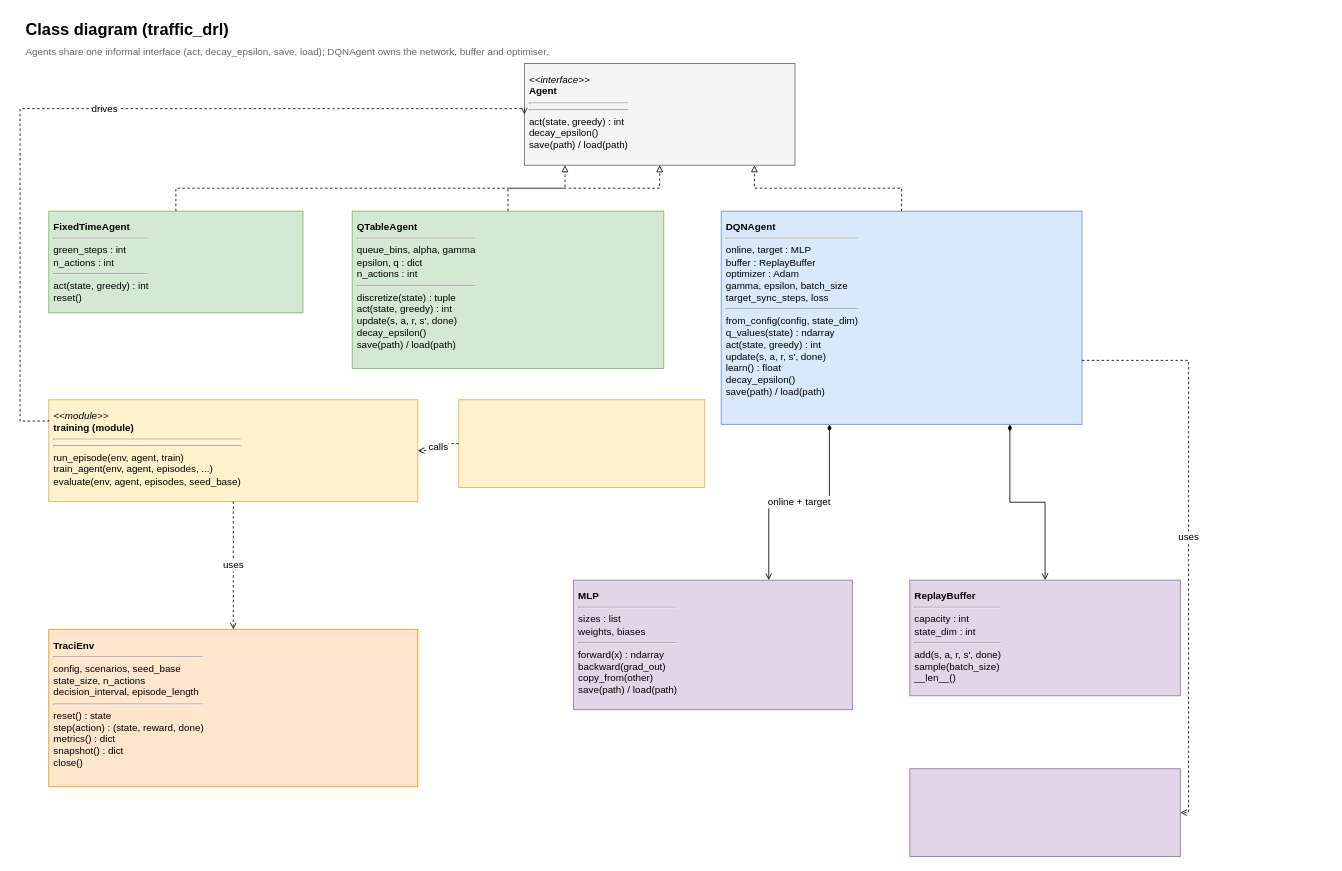
The diagram is 1342 pixels wide and 871 high, and some of its shapes have lost their labels. Each missing label, with the box of its shape:
<<module>> sweep (module) expand_grid(grid) run_sweep(env, config, grid, seeds): (458, 399, 705, 487)
Adam lr, beta1, beta2, eps moment estimates step(dW, db): (909, 768, 1180, 856)
